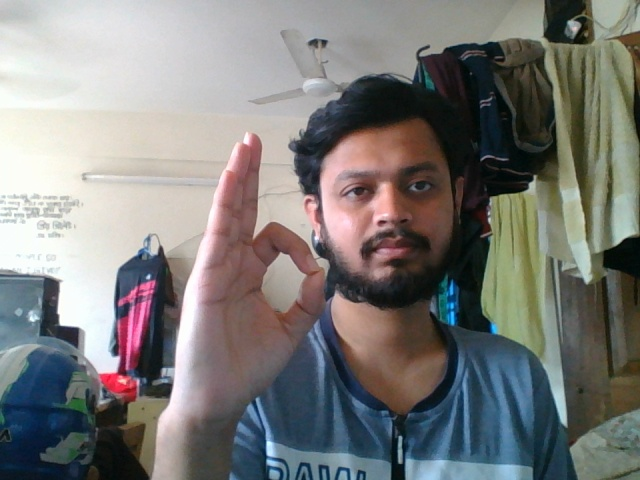ca: (160, 126, 334, 451)
